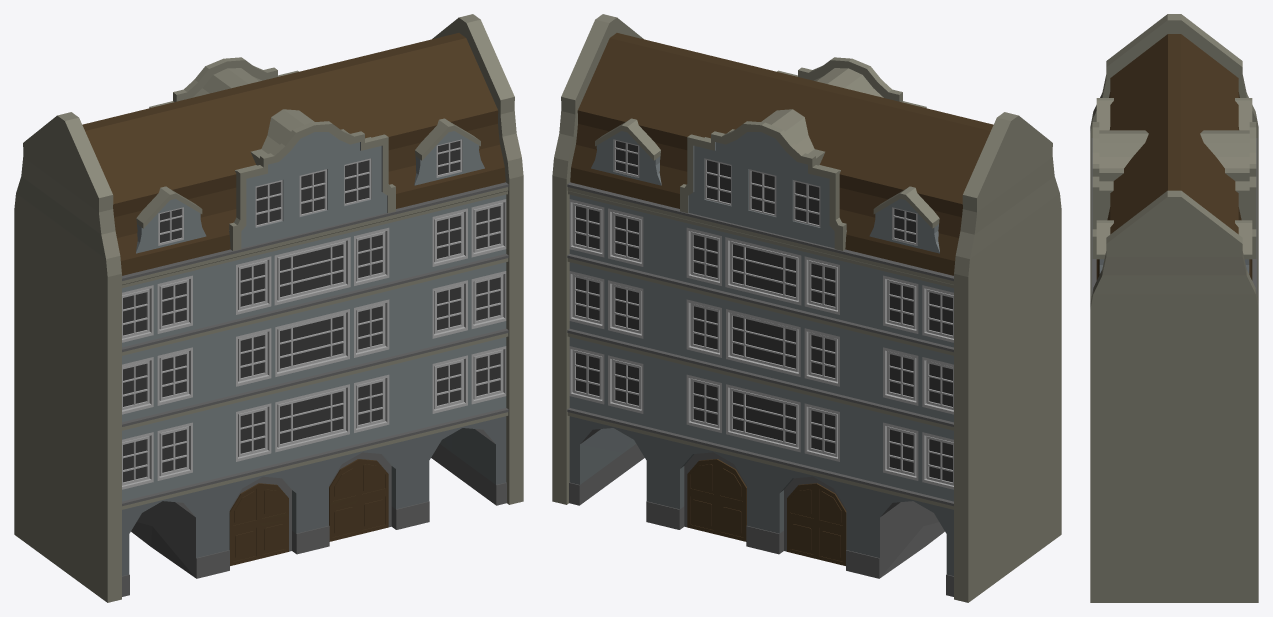
The model's file is Building2_Large.glb.
The picture shows the model from 3 angles, left to right: view 1: azimuth 30°, elevation 25°; view 2: azimuth 150°, elevation 25°; view 3: azimuth 270°, elevation 25°; orthographic projection. The views are drawn at different scales.
Visible parts, largest first — view 1: Building2_Large; view 2: Building2_Large; view 3: Building2_Large.
Part boxes in pixels (left/top/right/bottom): Building2_Large: left=14, top=14, right=523, bottom=602; Building2_Large: left=552, top=14, right=1061, bottom=602; Building2_Large: left=1090, top=14, right=1258, bottom=602.
Size of the model in its own units: 5.72 by 5.92 by 2.22.
